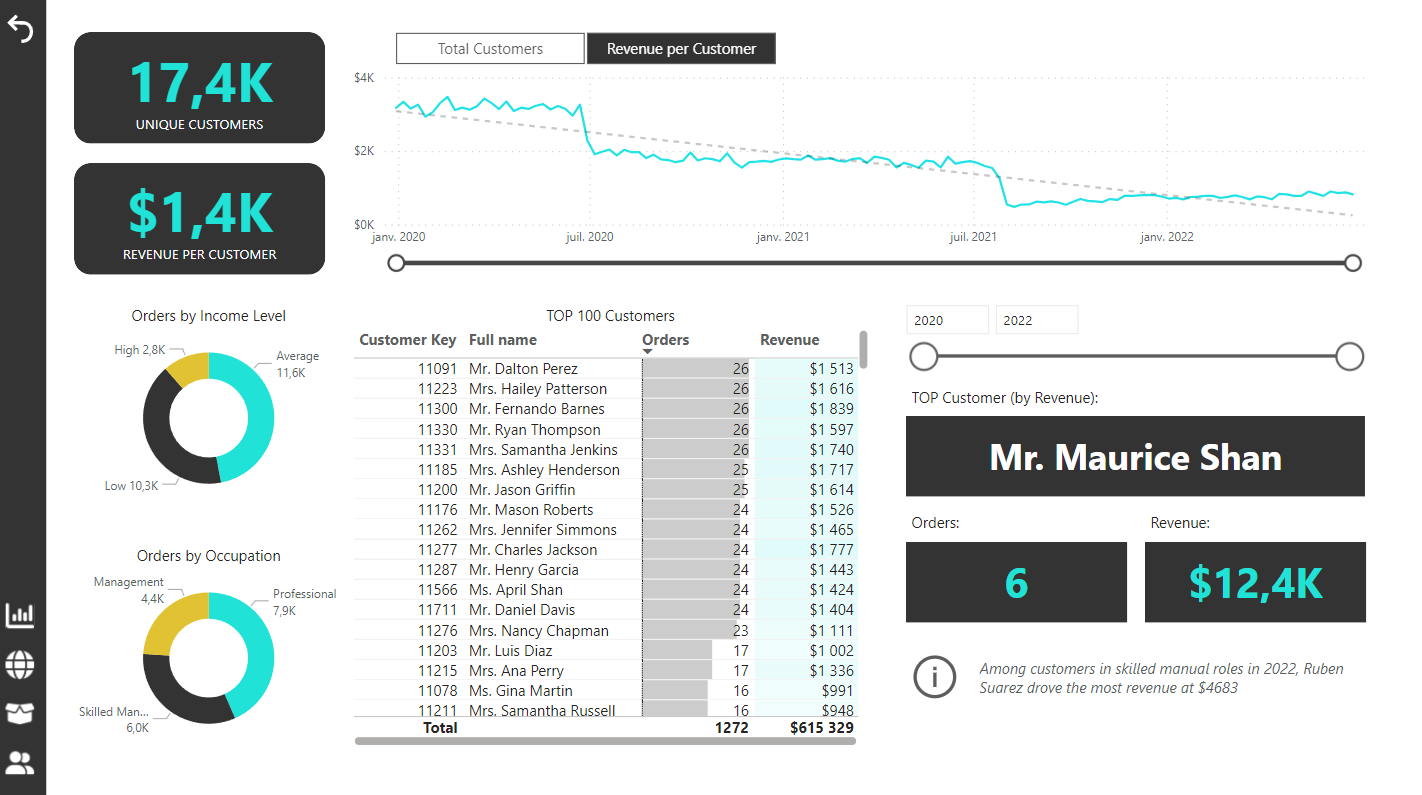

What the dashboard file says about the page in this screenshot:
{"tool":"powerbi","page":{"name":"Customer Detail","canvas":[1280,720],"ordinal":3},"visuals":[{"type":"shape","box":[0,0,45,720],"z":0},{"type":"actionButton","box":[4.6,538.9,33.7,33.7],"z":0,"group":"g1"},{"type":"shape","box":[69.9,33.1,225,100],"z":1000},{"type":"actionButton","box":[4.6,582.7,33.7,33.7],"z":1000,"group":"g1"},{"type":"shape","box":[69.9,150,225,100],"z":2000},{"type":"actionButton","box":[4.6,626.4,33.7,33.7],"z":2000,"group":"g1"},{"type":"card","fields":{"Values":["Measure Table.Total Customers"]},"box":[65.4,5,234,156],"z":3000},{"type":"actionButton","box":[4.6,670.2,33.7,33.7],"z":3000,"group":"g1"},{"type":"card","fields":{"Values":["Measure Table.Average Revenue per Customer"]},"box":[65.4,122,234,156],"z":4000},{"type":"lineChart","fields":{"Y":["Measure Table.Average Revenue per Customer"],"Category":["Calendar Lookup.Date Hierarchy.Start of Year","Calendar Lookup.Date Hierarchy.Start of Month","Calendar Lookup.Date Hierarchy.Start of Week","Calendar Lookup.Date Hierarchy.Date"]},"box":[315.3,59.9,928.8,190.6],"z":5000},{"type":"donutChart","title":"Orders by Income Level","fields":{"Category":["Customer Lookup.Income Level"],"Y":["Measure Table.Total Orders"]},"box":[65.8,277.3,248.4,185.6],"z":6000},{"type":"donutChart","title":"Orders by Occupation","fields":{"Y":["Measure Table.Total Orders"],"Category":["Customer Lookup.Occupation"]},"box":[65.8,492.8,248.4,185.6],"z":7000},{"type":"tableEx","title":"TOP 100 Customers","fields":{"Values":["Customer Lookup.CustomerKey","Customer Lookup.Full name","Measure Table.Total Orders","Measure Table.Total Revenue"]},"box":[314.3,277.6,471.9,400.3],"z":8000},{"type":"card","fields":{"Values":["Measure Table.Full Name (Customer Detail)"]},"box":[815.1,377.1,411,71.8],"z":9000},{"type":"card","fields":{"Values":["Measure Table.Total Orders (Customer Detail)"]},"box":[815.1,489.9,197.5,71.8],"z":10000},{"type":"card","fields":{"Values":["Measure Table.Total Revenue (Customer Detail)"]},"box":[1028.6,489.9,197.5,71.8],"z":11000},{"type":"textbox","box":[815.1,346.2,197.5,30.9],"z":12000},{"type":"textbox","box":[815.1,458.9,197.5,30.9],"z":13000},{"type":"textbox","box":[1028.6,458.9,197.5,30.9],"z":14000},{"type":"slicer","fields":{"Values":["Calendar Lookup.Year"]},"box":[802.1,267.4,431,78.8],"z":15000},{"type":"actionButton","box":[815.4,585.4,411.2,49.9],"z":16000},{"type":"actionButton","box":[4.5,12.5,34.9,34.9],"z":17000},{"type":"group","id":"g1","title":"Navigation Buttens","box":[4.6,538.9,33.7,164.9],"z":18000},{"type":"slicer","fields":{"Values":["Customer Metric Selection.Customer Metric Selection"]},"box":[332.2,26.7,390.3,41.8],"z":19000}]}

Visuals, with their boxes on the page's 1280x720 design canvas (x1, y1, x2, y2). These are canvas units, not pixel positions in the 1422x795 screenshot, which may show the page scaled, cropped or inside an application window:
shape: <region>0, 0, 45, 720</region>
actionButton: <region>5, 539, 38, 573</region>
shape: <region>70, 33, 295, 133</region>
actionButton: <region>5, 583, 38, 616</region>
shape: <region>70, 150, 295, 250</region>
actionButton: <region>5, 626, 38, 660</region>
card - Measure Table.Total Customers: <region>65, 5, 299, 161</region>
actionButton: <region>5, 670, 38, 704</region>
card - Measure Table.Average Revenue per Customer: <region>65, 122, 299, 278</region>
lineChart - Measure Table.Average Revenue per Customer x Calendar Lookup.Date Hierarchy.Start of Year: <region>315, 60, 1244, 250</region>
"Orders by Income Level" donutChart: <region>66, 277, 314, 463</region>
"Orders by Occupation" donutChart: <region>66, 493, 314, 678</region>
"TOP 100 Customers" tableEx: <region>314, 278, 786, 678</region>
card - Measure Table.Full Name (Customer Detail): <region>815, 377, 1226, 449</region>
card - Measure Table.Total Orders (Customer Detail): <region>815, 490, 1013, 562</region>
card - Measure Table.Total Revenue (Customer Detail): <region>1029, 490, 1226, 562</region>
textbox: <region>815, 346, 1013, 377</region>
textbox: <region>815, 459, 1013, 490</region>
textbox: <region>1029, 459, 1226, 490</region>
slicer - Calendar Lookup.Year: <region>802, 267, 1233, 346</region>
actionButton: <region>815, 585, 1227, 635</region>
actionButton: <region>4, 12, 39, 47</region>
"Navigation Buttens" group: <region>5, 539, 38, 704</region>
slicer - Customer Metric Selection.Customer Metric Selection: <region>332, 27, 722, 68</region>
